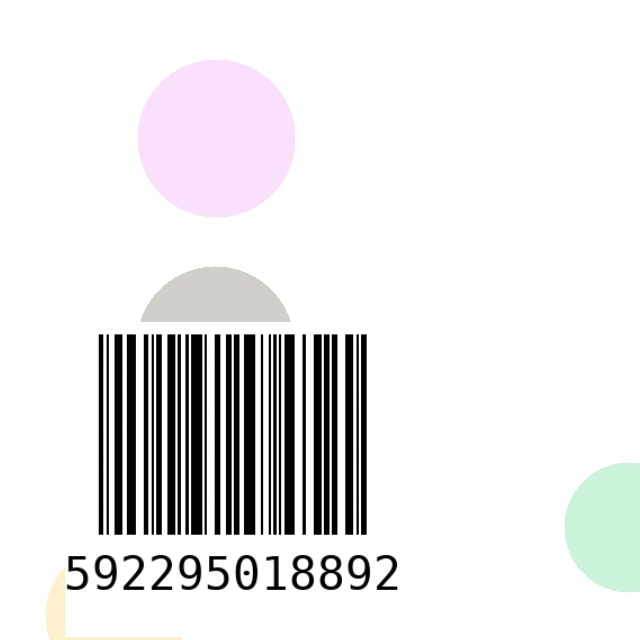barcode: (65, 322, 400, 637)
